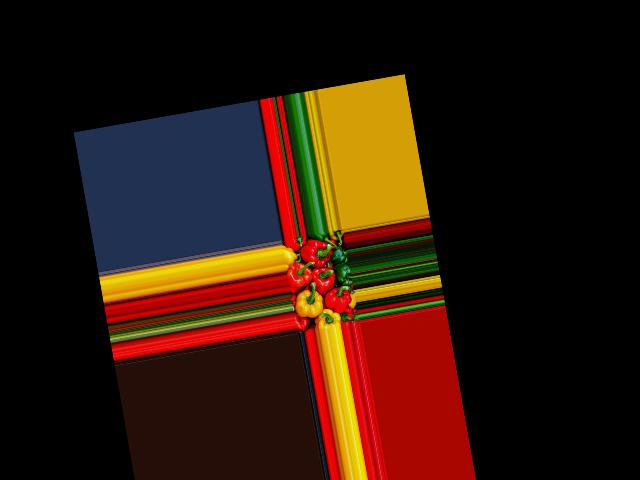bell_pepper: (281, 246, 297, 265)
